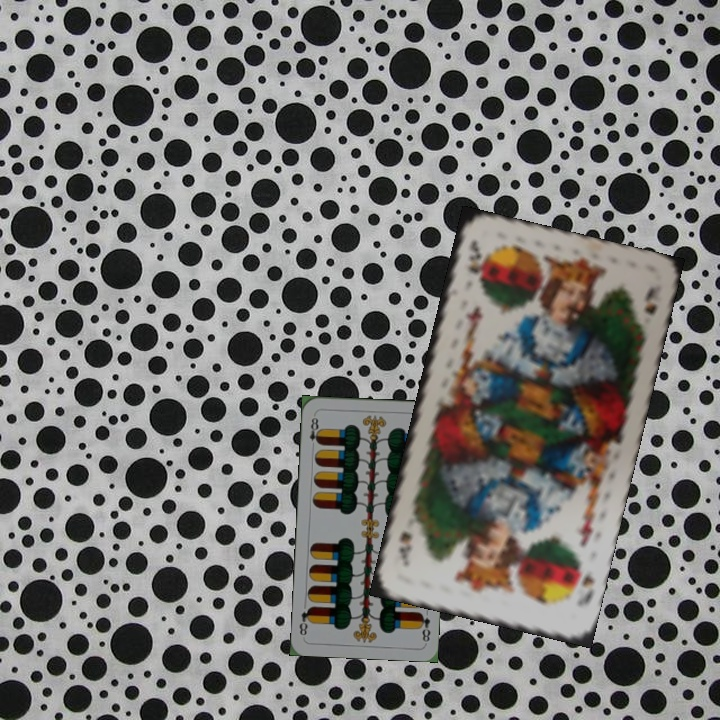E8: (306, 411, 323, 451), (415, 608, 433, 644)
SK: (573, 570, 597, 610), (464, 235, 484, 276)
